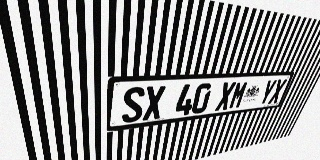0: (190, 83, 213, 114)
4: (174, 84, 197, 116)
M: (228, 81, 249, 109)
S: (122, 86, 145, 123)
X: (142, 85, 166, 121), (215, 82, 236, 111), (268, 79, 287, 104)
Y: (257, 79, 278, 105)
